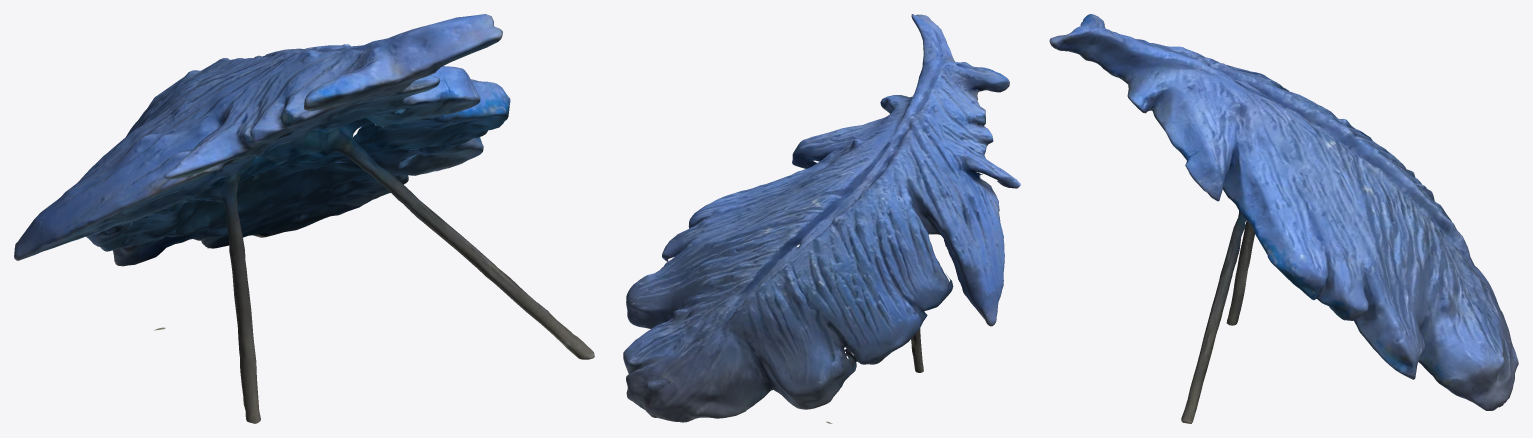
3 views of the same model, side by side, from view 1: azimuth 30°, elevation 25°; view 2: azimuth 150°, elevation 25°; view 3: azimuth 270°, elevation 25° (orthographic). The views are drawn at different scales.
Parts seen in each view (by area): view 1: Mesh_0.006; view 2: Mesh_0.006; view 3: Mesh_0.006.
Boxes of the visible parts, left/top/right/bottom form: Mesh_0.006: left=14, top=14, right=594, bottom=423; Mesh_0.006: left=623, top=14, right=1020, bottom=423; Mesh_0.006: left=1049, top=14, right=1518, bottom=423.
Bounding box in the file's own units: 1.19 × 0.9949 × 1.27.
Materials: 8 (8 with a texture image).
